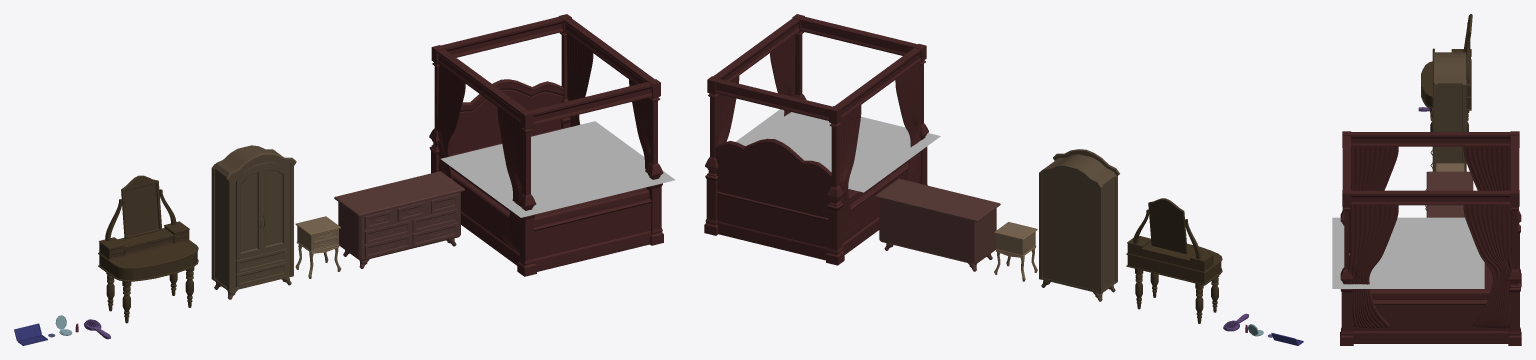
The model's file is Bedroom_UVDone.fbx.
3 renders of one model, left to right at view 1: azimuth 30°, elevation 25°; view 2: azimuth 150°, elevation 25°; view 3: azimuth 270°, elevation 25°, orthographic. The views are drawn at different scales.
Parts seen in each view (by area): view 1: Bedroom:pPlane2, Bedroom:pCube2, Bedroom:polySurface1, polySurface4, pCube158, Bedroom:pCube8, polySurface3, polySurface2, pCube151, pCube46, Bedroom:pPlane3, Bedroom:pCube13 (+21 smaller); view 2: Bedroom:polySurface1, polySurface4, Bedroom:pPlane2, pCube151, pCube158, Bedroom:pCube6, Bedroom:pPlane3, Bedroom:pPlane4, Bedroom:pCube14, Bedroom:pCube13, pCube46, Bedroom:pCube8 (+11 smaller); view 3: Bedroom:pPlane2, Bedroom:pCube7, Bedroom:pPlane5, Bedroom:pPlane6, polySurface4, Bedroom:pCube11, Bedroom:pCube12, Bedroom:pPlane3, Bedroom:pPlane4, Bedroom:pCube9, pCube158, Bedroom:pCube5 (+11 smaller).
Boxes of the visible parts, x1,y1,x2,y2 form: Bedroom:pPlane2: (441, 121, 675, 217); Bedroom:pCube2: (534, 199, 651, 271); Bedroom:polySurface1: (448, 79, 563, 155); polySurface4: (215, 145, 290, 288); pCube158: (334, 171, 464, 216); Bedroom:pCube8: (451, 169, 519, 265); polySurface3: (236, 164, 261, 260); polySurface2: (262, 162, 287, 254); pCube151: (338, 192, 460, 261); pCube46: (121, 175, 162, 239); Bedroom:pPlane3: (497, 107, 523, 253); Bedroom:pCube13: (530, 82, 652, 125); Bedroom:polySurface1: (715, 138, 831, 260); polySurface4: (1042, 154, 1114, 290); Bedroom:pPlane2: (736, 109, 940, 192); pCube151: (879, 198, 996, 264); pCube158: (875, 178, 1000, 222); Bedroom:pCube6: (826, 106, 844, 265); Bedroom:pPlane3: (895, 61, 921, 183); Bedroom:pPlane4: (838, 105, 861, 241); Bedroom:pCube14: (715, 79, 832, 120); Bedroom:pCube13: (800, 17, 917, 55); pCube46: (1148, 198, 1187, 253); Bedroom:pCube8: (842, 162, 908, 254); Bedroom:pPlane2: (1332, 217, 1484, 288); Bedroom:pCube7: (1352, 300, 1509, 343); Bedroom:pPlane5: (1463, 205, 1512, 328); Bedroom:pPlane6: (1348, 205, 1398, 328); polySurface4: (1435, 52, 1465, 163); Bedroom:pCube11: (1351, 190, 1510, 205); Bedroom:pCube12: (1351, 132, 1510, 146); Bedroom:pPlane3: (1351, 146, 1398, 190); Bedroom:pPlane4: (1463, 146, 1510, 190); Bedroom:pCube9: (1370, 262, 1492, 299); pCube158: (1426, 171, 1473, 217); Bedroom:pCube5: (1508, 190, 1521, 345).
Size of the model in its own units: 57.56 by 15.06 by 16.83.
